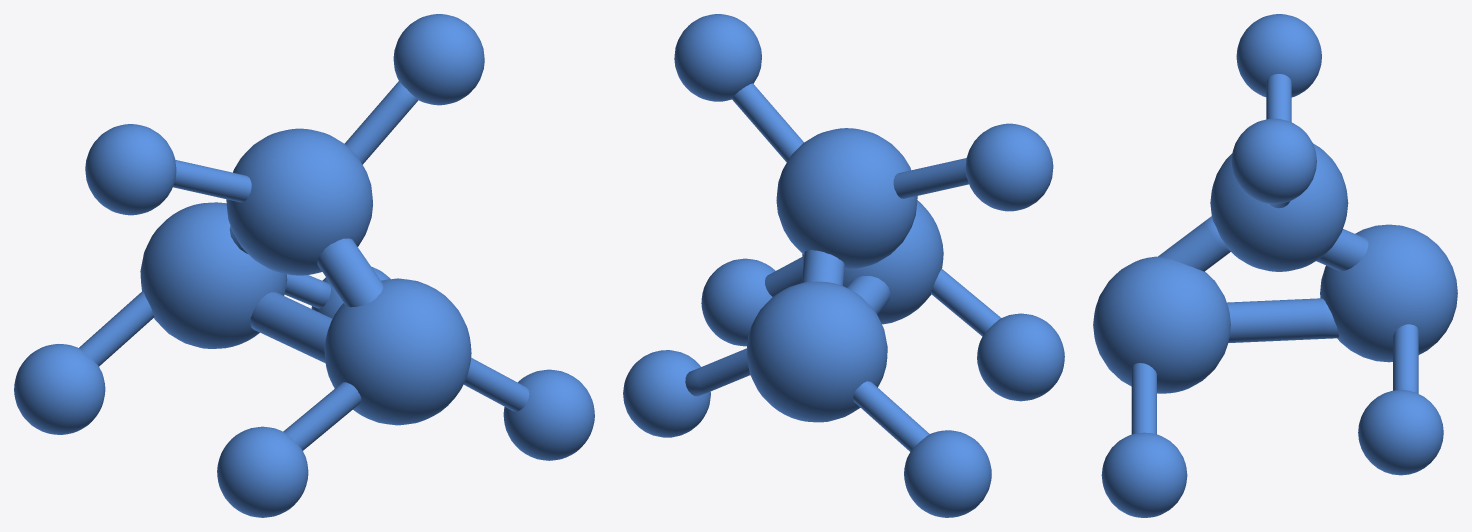
File: Cyclopropane.obj
The picture shows the model from 3 angles, left to right: view 1: azimuth 30°, elevation 25°; view 2: azimuth 150°, elevation 25°; view 3: azimuth 270°, elevation 25°; orthographic projection. The views are drawn at different scales.
Visible parts, largest first — view 1: Sphere002, Sphere003, Sphere004, Object011, Object003, Object015, Object007, Object001, Cylinder006, Cylinder004, Object008, Object016 (+4 smaller); view 2: Sphere004, Sphere003, Object011, Object003, Object015, Object007, Object013, Sphere002, Object001, Object008, Object016, Object012 (+5 smaller); view 3: Sphere002, Sphere004, Sphere003, Object007, Object001, Object013, Object011, Cylinder006, Cylinder004, Object005, Object014, Cylinder005 (+1 smaller).
Boxes of the visible parts, box(x1,y1,x2,y2) form: Sphere002: box(324, 278, 471, 425); Sphere003: box(226, 128, 372, 275); Sphere004: box(140, 202, 287, 348); Object011: box(85, 124, 176, 215); Object003: box(217, 426, 308, 517); Object015: box(14, 344, 105, 434); Object007: box(393, 14, 484, 105); Object001: box(503, 369, 594, 460); Cylinder006: box(250, 292, 332, 363); Cylinder004: box(317, 238, 383, 307); Object008: box(344, 81, 418, 164); Object016: box(79, 291, 154, 366); Sphere004: box(746, 281, 887, 422); Sphere003: box(776, 128, 917, 269); Object011: box(965, 123, 1053, 211); Object003: box(977, 313, 1064, 401); Object015: box(904, 430, 991, 517); Object007: box(674, 14, 761, 101); Object013: box(623, 350, 710, 437); Sphere002: box(802, 200, 943, 324); Object001: box(701, 258, 775, 346); Object008: box(731, 83, 803, 162); Object016: box(853, 381, 929, 451); Object012: box(893, 158, 968, 198); Sphere002: box(1093, 256, 1230, 393); Sphere004: box(1320, 224, 1457, 362); Sphere003: box(1210, 143, 1348, 271); Object007: box(1231, 118, 1316, 204); Object001: box(1101, 432, 1187, 517); Object013: box(1358, 390, 1443, 475); Object011: box(1236, 14, 1321, 97); Cylinder006: box(1227, 298, 1338, 342); Cylinder004: box(1158, 216, 1230, 271); Object005: box(1131, 363, 1156, 434); Object014: box(1393, 324, 1418, 393); Cylinder005: box(1316, 229, 1368, 271).
Bounding box in the file's own units: 120 × 106 × 94.07.
